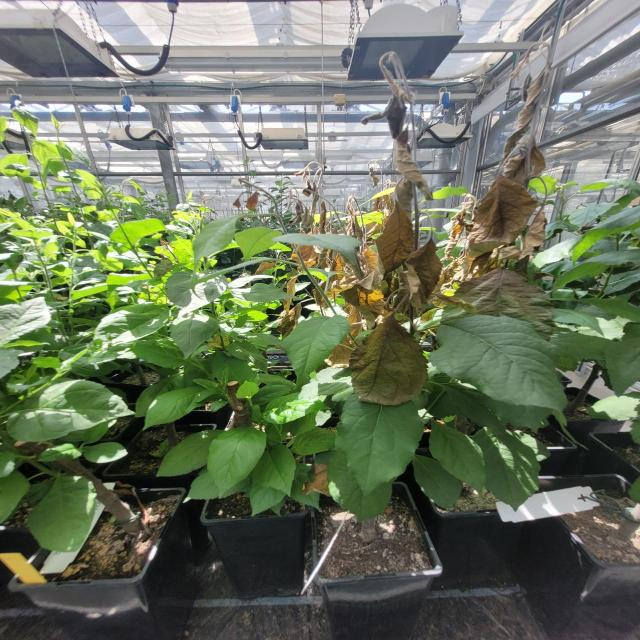-FireBlight-: (352, 55, 441, 402), (468, 63, 548, 278)
